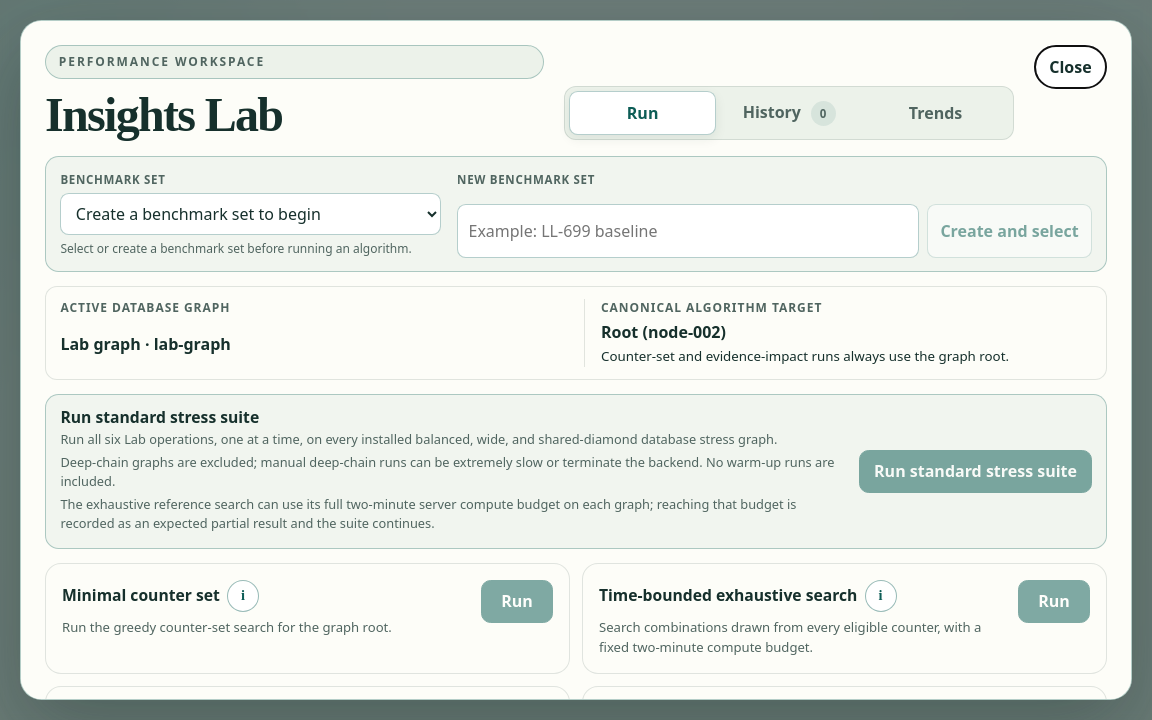
Test case: InsightsLabDialog › loads newest-first history and explains a time-limited partial result
The image size is (1152, 720).
Step 1. Click the tab "History 0" → (789,113), box [716,91,862,135]
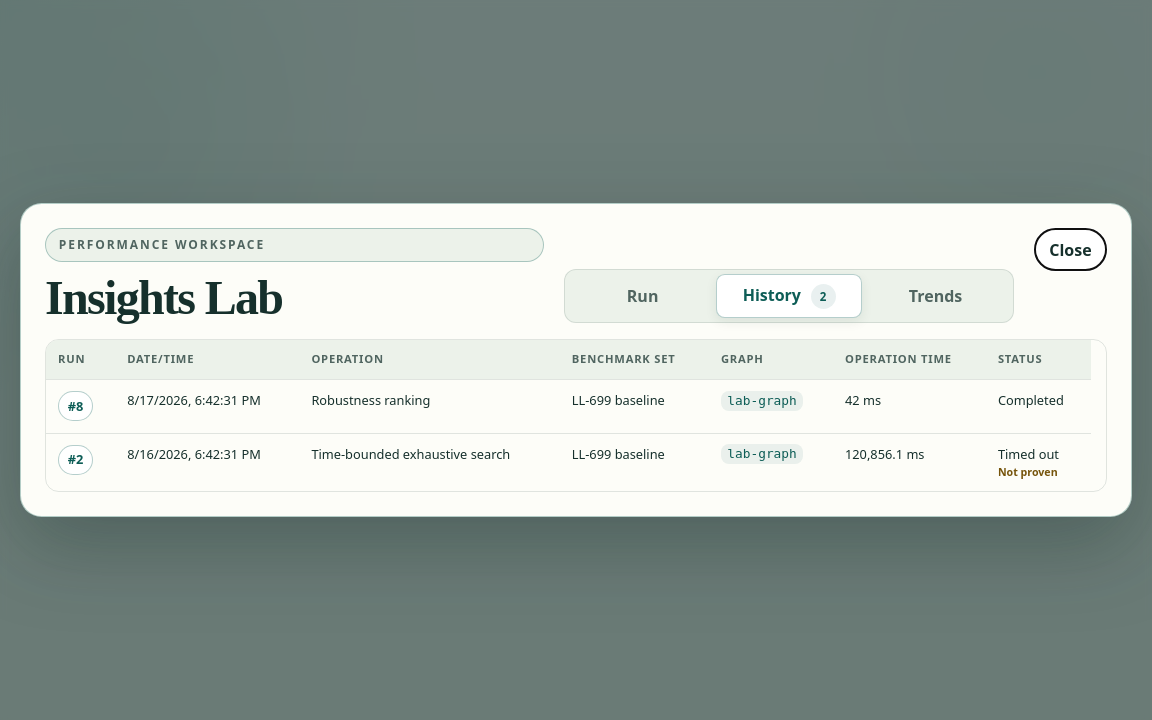
Now the button named "View run 8" is shown, box [58,391,93,421]
Now the button named "View run 2" is shown
Step 2. Click the button named "View run 2" → (76,460), box [58,445,93,475]
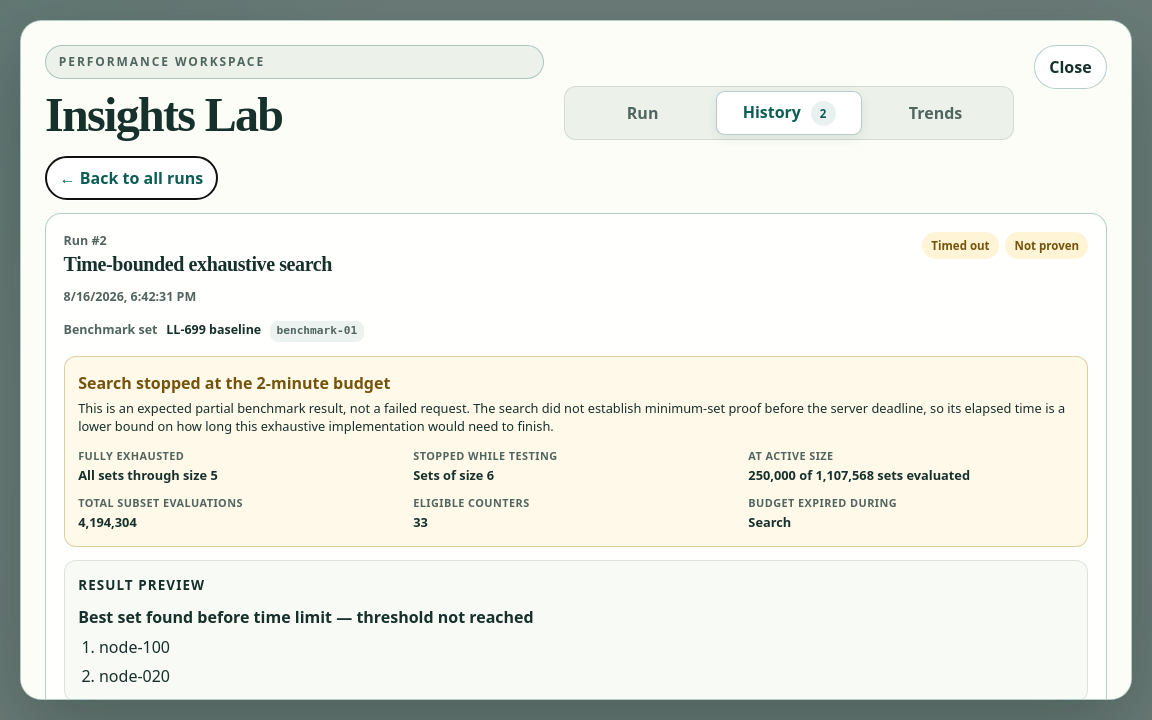
Now the text "Timed out" is shown, box [922,232,999,259]
Now the text "Not proven" is shown, box [1005,232,1088,259]
Now the text "LL-699 baseline" is shown, box [166,321,261,340]
Step 3. Click the button "← Back to all runs" → (131,178), box [45,156,218,200]
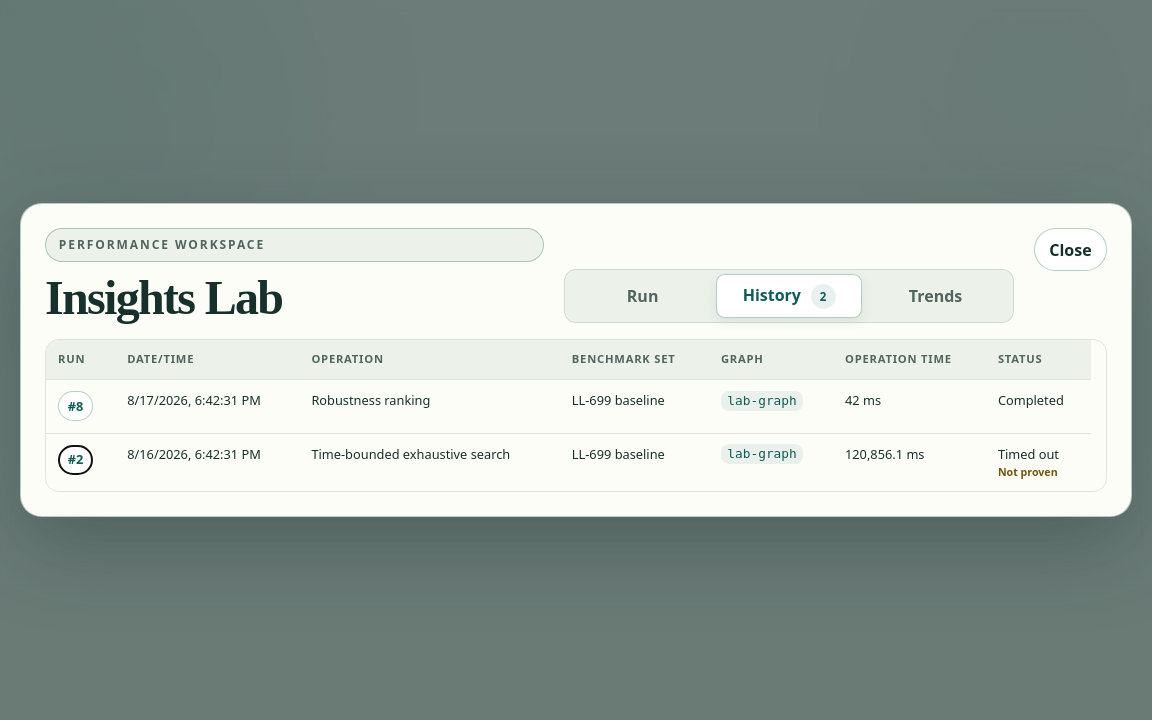
Now the element named "Performance run history" is shown, box [45,339,1107,492]
